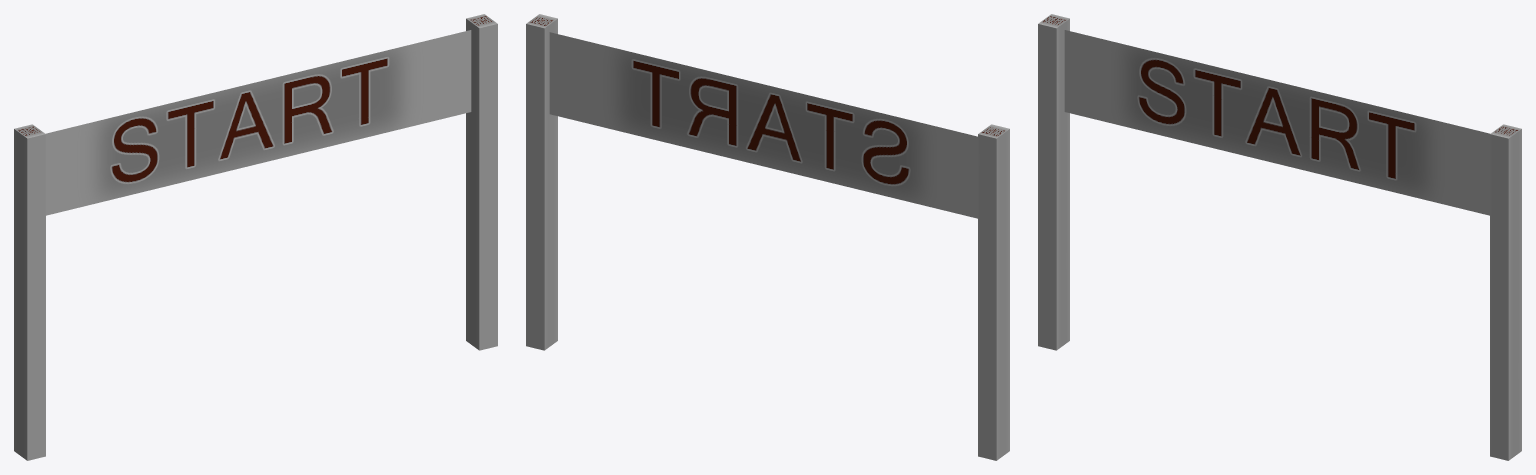
Rendered from start_sign.obj.
3 views of the same model, side by side, from view 1: azimuth 30°, elevation 25°; view 2: azimuth 150°, elevation 25°; view 3: azimuth 330°, elevation 25° (orthographic).
Visible parts, largest first — view 1: Sign pPlane1, pCube65 Sign, Sign pCube66; view 2: Sign pPlane1, pCube65 Sign, Sign pCube66; view 3: Sign pPlane1, Sign pCube66, pCube65 Sign.
Boxes of the visible parts, x1=… form: Sign pPlane1: x1=46, y1=30, x2=471, y2=215; pCube65 Sign: x1=14, y1=124, x2=45, y2=460; Sign pCube66: x1=466, y1=14, x2=497, y2=350; Sign pPlane1: x1=549, y1=32, x2=977, y2=218; pCube65 Sign: x1=978, y1=124, x2=1009, y2=460; Sign pCube66: x1=526, y1=14, x2=557, y2=350; Sign pPlane1: x1=1064, y1=30, x2=1489, y2=215; Sign pCube66: x1=1490, y1=124, x2=1521, y2=460; pCube65 Sign: x1=1038, y1=14, x2=1069, y2=350.
Size of the model in its own units: 372 by 243 by 18.39.
Materials: 1 (1 with a texture image).
